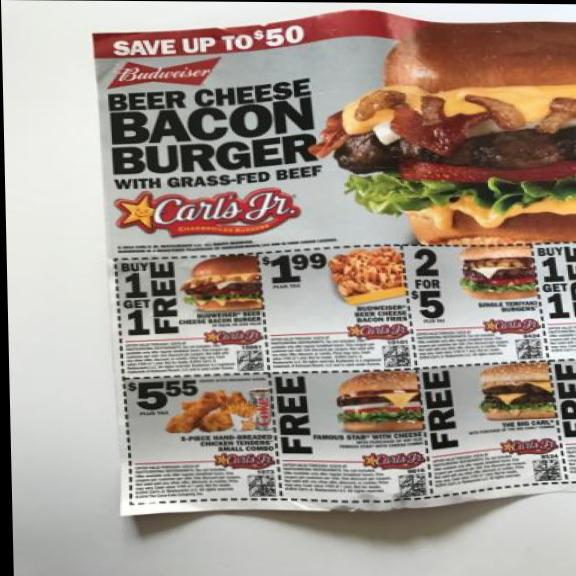Kertas: (96, 9, 576, 527)
